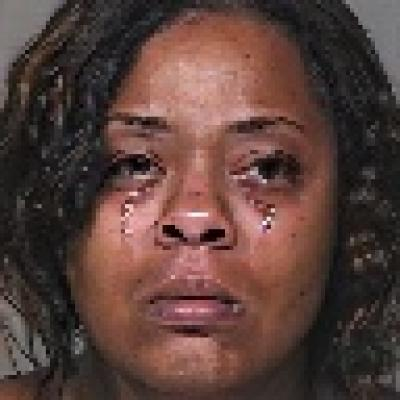sad: (70, 15, 336, 380)
